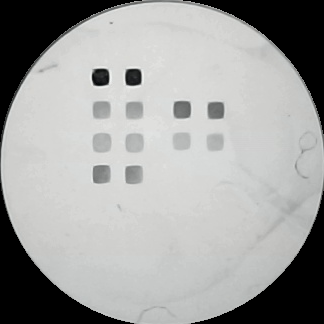检查点: (123, 65, 146, 90), (89, 65, 112, 89), (123, 100, 147, 123), (204, 99, 228, 122), (90, 132, 115, 154), (90, 163, 113, 186), (171, 98, 194, 120), (203, 131, 226, 153), (124, 132, 147, 154), (123, 163, 146, 185), (91, 99, 114, 120), (172, 131, 193, 151)
